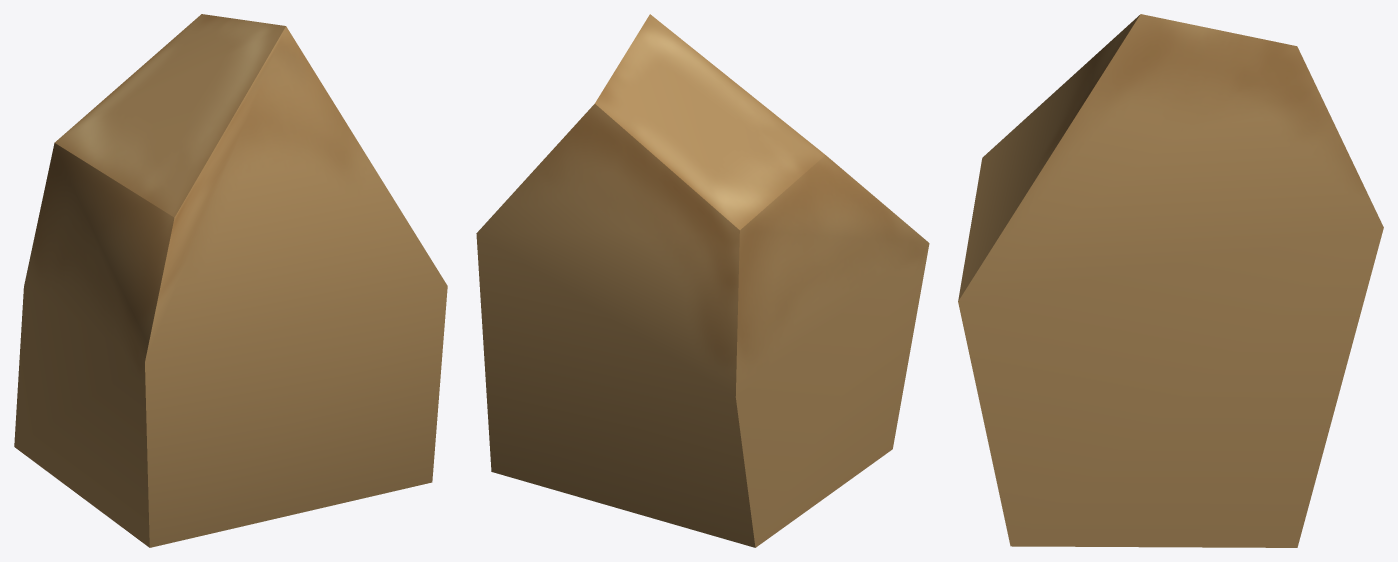
Rendered from rock3.fbx.
The picture shows the model from 3 angles, left to right: view 1: azimuth 30°, elevation 25°; view 2: azimuth 150°, elevation 25°; view 3: azimuth 270°, elevation 25°; orthographic projection. The views are drawn at different scales.
Parts seen in each view (by area): view 1: rock3; view 2: rock3; view 3: rock3.
Boxes of the visible parts, x1,y1,x2,y2 form: rock3: (14, 14, 447, 547); rock3: (476, 14, 929, 547); rock3: (958, 14, 1383, 547).
Bounding box in the file's own units: 73.09 × 100 × 79.87.
